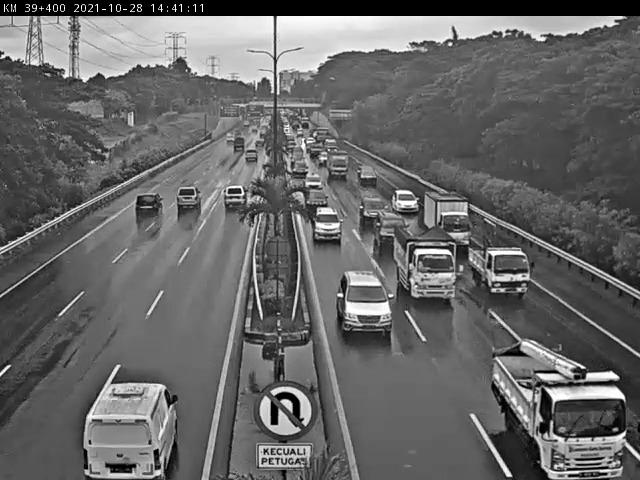car: (79, 381, 182, 480), (338, 270, 394, 331), (374, 209, 410, 247), (312, 207, 344, 244), (358, 197, 388, 225), (392, 190, 420, 213)
mid truck: (490, 353, 624, 479), (395, 227, 457, 303), (468, 243, 531, 297), (424, 192, 473, 249), (134, 191, 165, 218), (175, 185, 203, 210), (222, 185, 248, 210)
